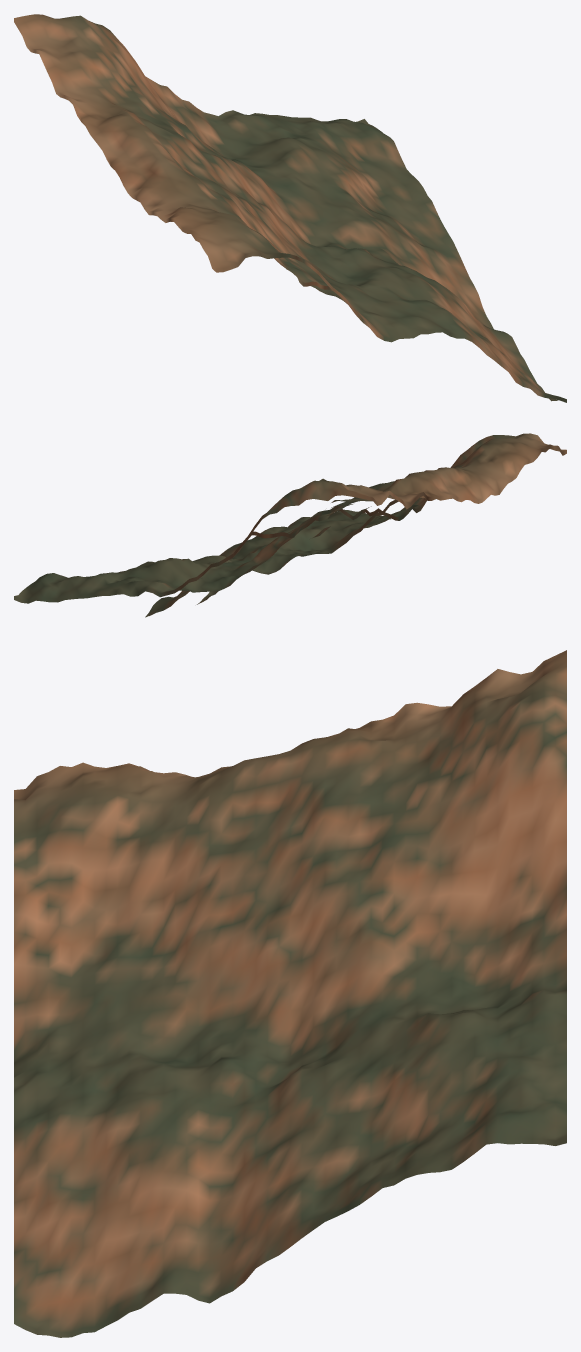
Rendered from terrain-067.glb.
3 renders of one model, top to bottom at view 1: azimuth 30°, elevation 25°; view 2: azimuth 150°, elevation 25°; view 3: azimuth 270°, elevation 25°, orthographic. The views are drawn at different scales.
Visible parts, largest first — view 1: terrain-067; view 2: terrain-067; view 3: terrain-067.
Boxes of the visible parts, x1,y1,x2,y2 form: terrain-067: (14,14,566,402); terrain-067: (14,433,566,617); terrain-067: (14,650,566,1337).
Bounding box in the file's own units: 384 × 348 × 384.
